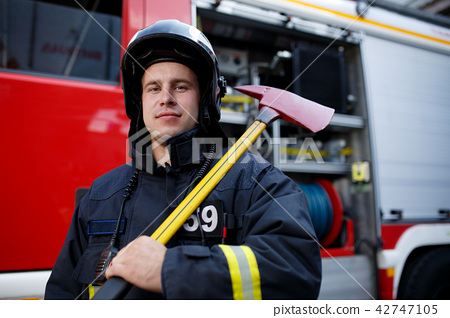helmet: (121, 21, 229, 97)
